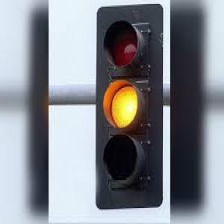semaforo: (95, 3, 163, 209)
